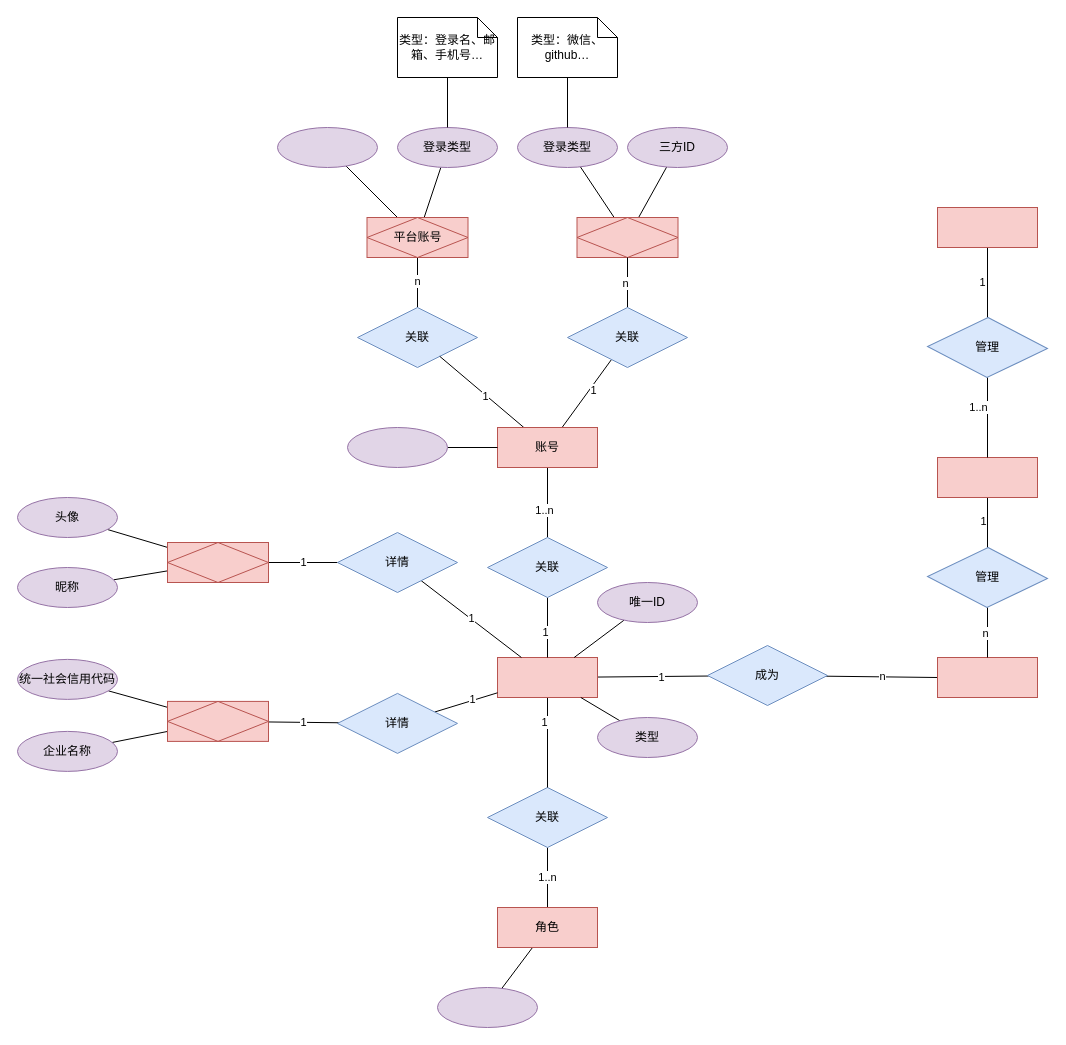
Image size: 1066x1045. Some labels were removed from this diagram. Each missing label, with the centre of its shape:
"三方账号" belongs at (x=627, y=237).
"个人用户" belongs at (x=217, y=562).
"企业用户" belongs at (x=217, y=720).
"密码" belongs at (x=397, y=447).
"平台用户" belongs at (x=547, y=677).
"成员" belongs at (x=987, y=677).
"登录名" belongs at (x=327, y=147).
"租户" belongs at (x=987, y=227).
"组织" belongs at (x=987, y=477).
"角色名称" belongs at (x=487, y=1007).
